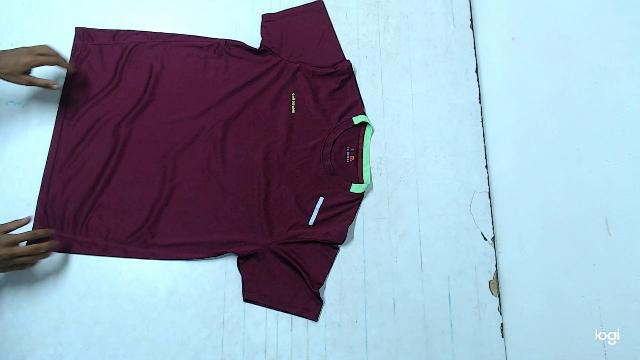new-garment: (34, 1, 372, 321)
